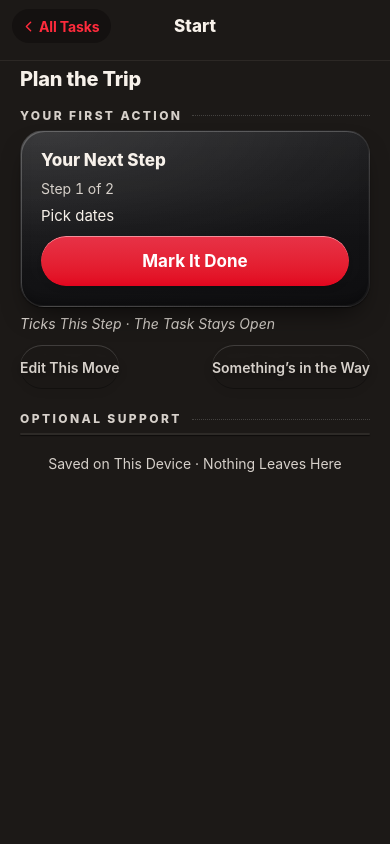
Test: StartScreen: edit, smaller, worked on it, done for now › Edit This Move saves the reworded step and closes
The image size is (390, 844).
Click the button "Edit This Move": point(70, 368) [20,346,120,390]
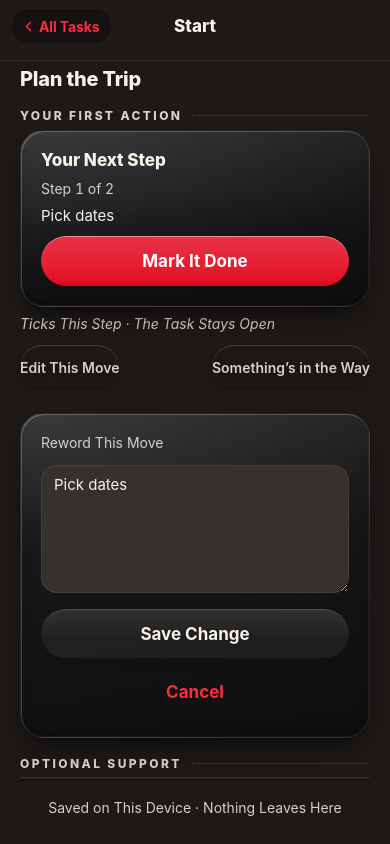
Expected: the text box named "Reword this move" holds "Pick dates"
Replace the text in the text box named "Reword this move" with "Open the calendar": point(195, 529) [41,465,349,593]
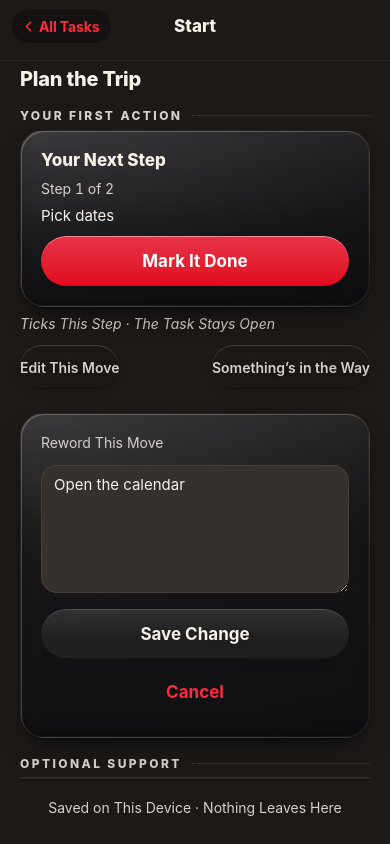
Click the button "Save Change": point(195, 634) [41,609,349,659]
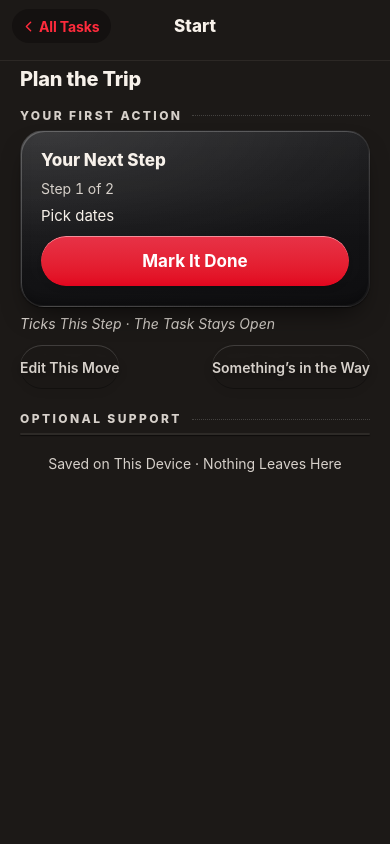
Expected: the text labelled "Reword This Move" is gone
